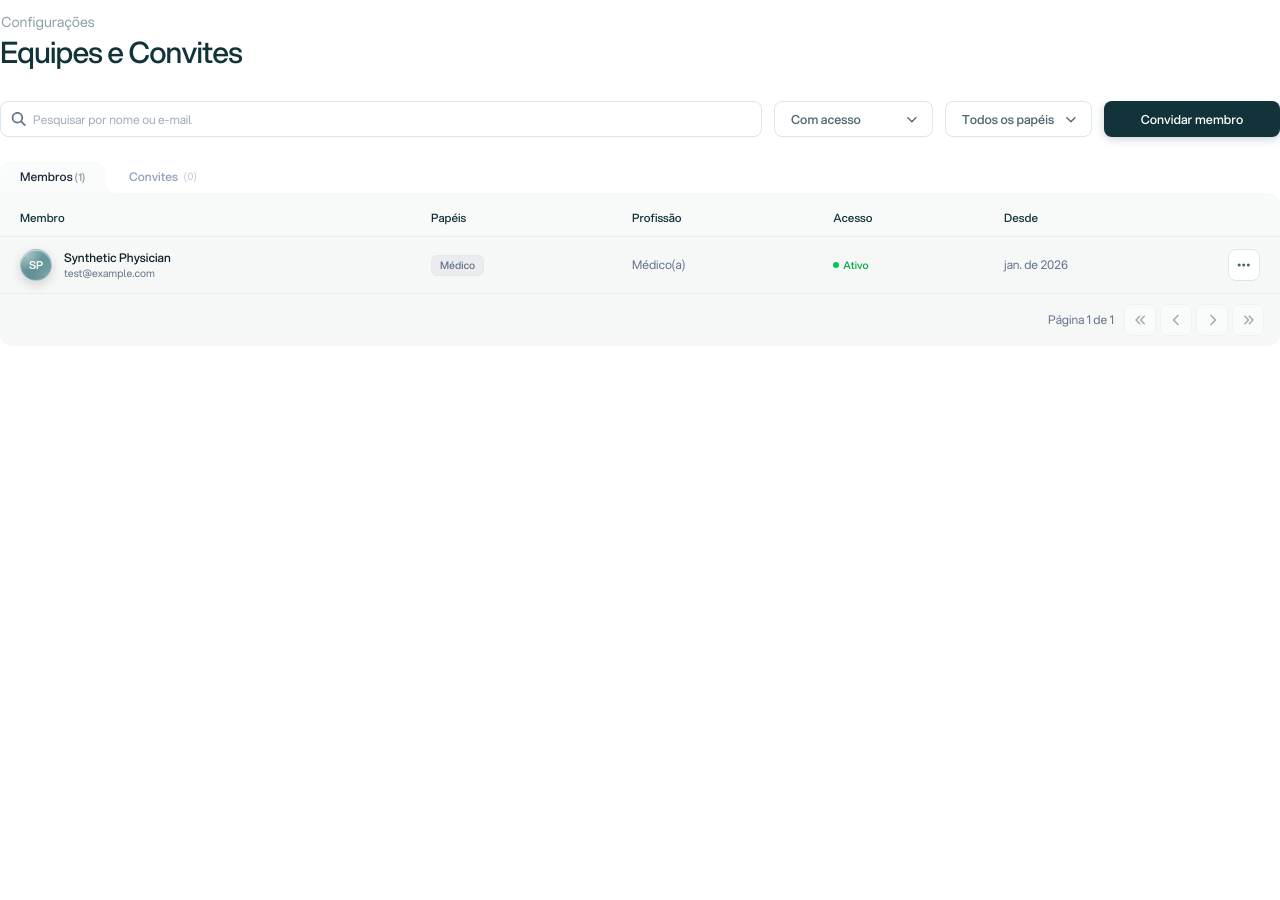
Scenario: FE-12 administrative outcomes › does not claim delivery when the persisted invite reports SMTP failure
Click the button "Convidar membro": (1192, 119) [1104, 101, 1279, 137]
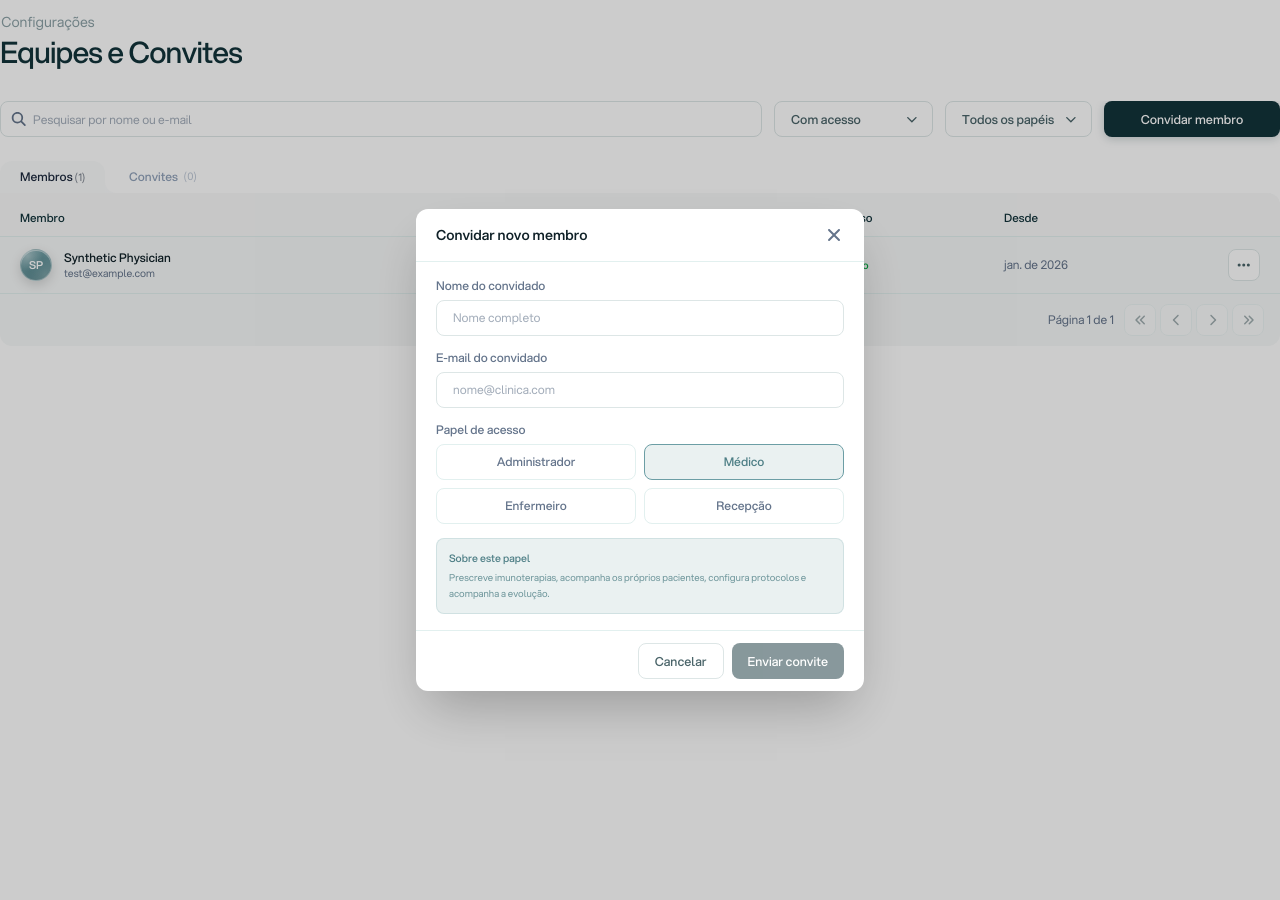
In the field with placeholder "Nome completo": (640, 318) [436, 300, 844, 336], type "Synthetic Physician"
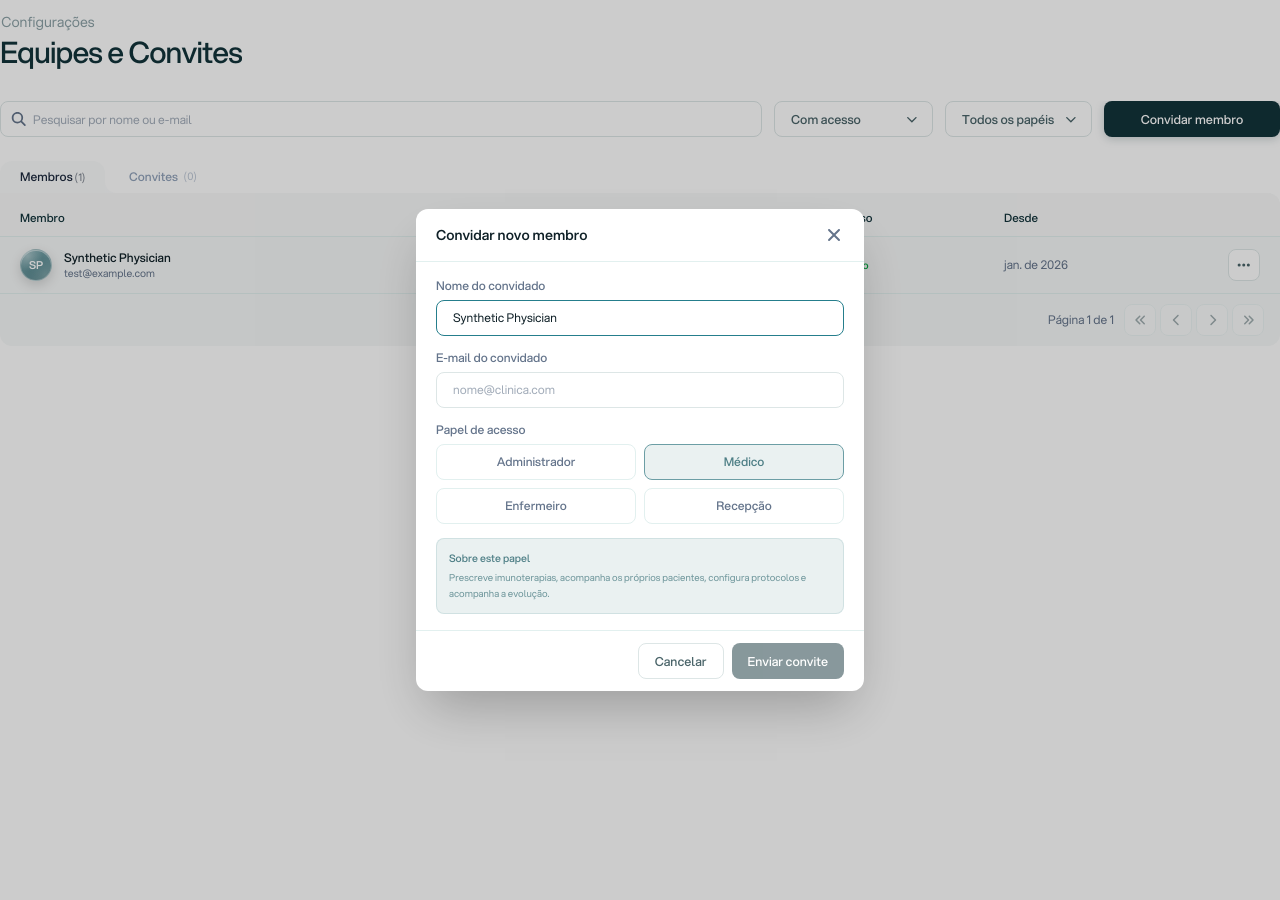
In the field with placeholder "nome@clinica.com": (640, 390) [436, 372, 844, 408], type "test@example.com"
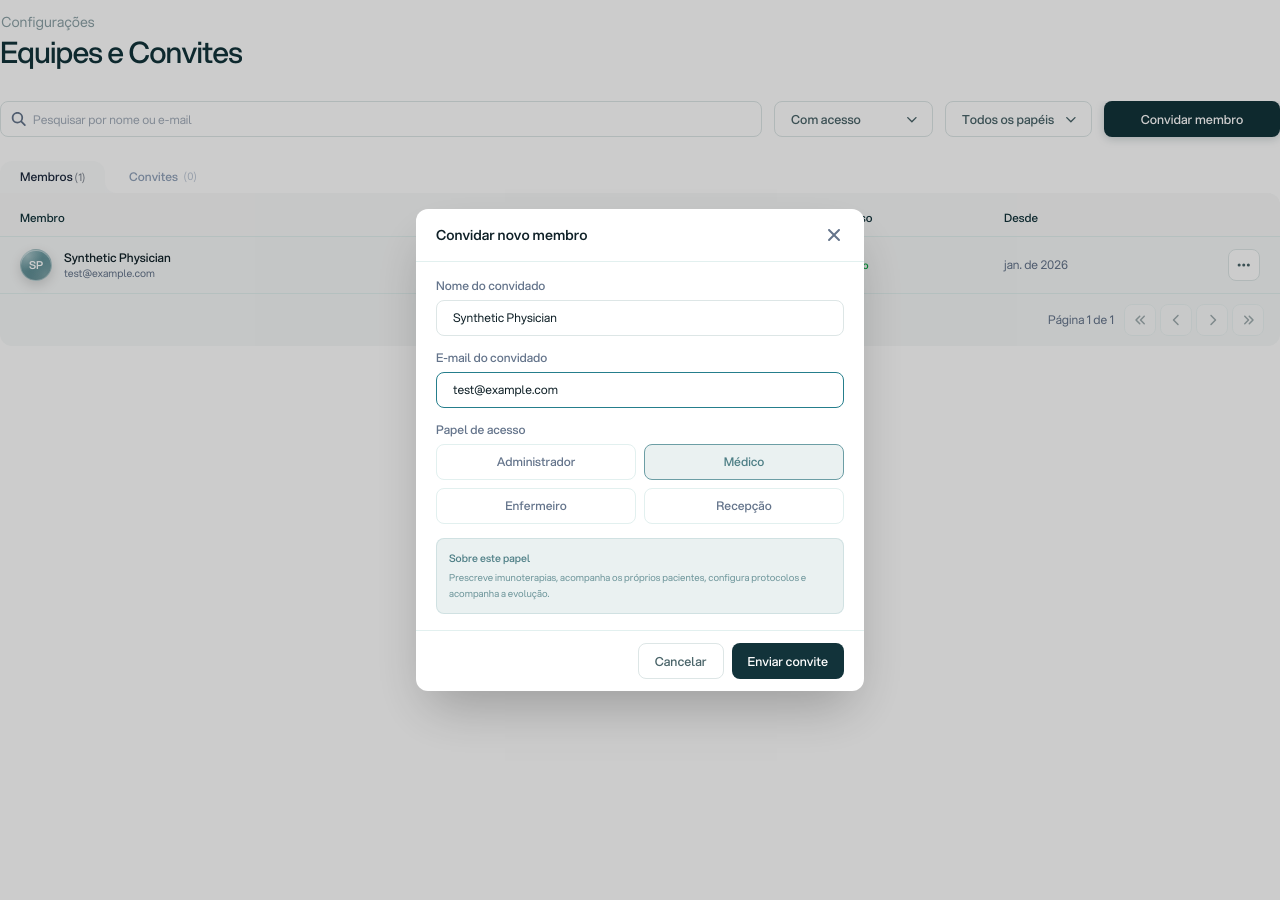
Click the button "Enviar convite": (788, 661) [732, 643, 844, 679]
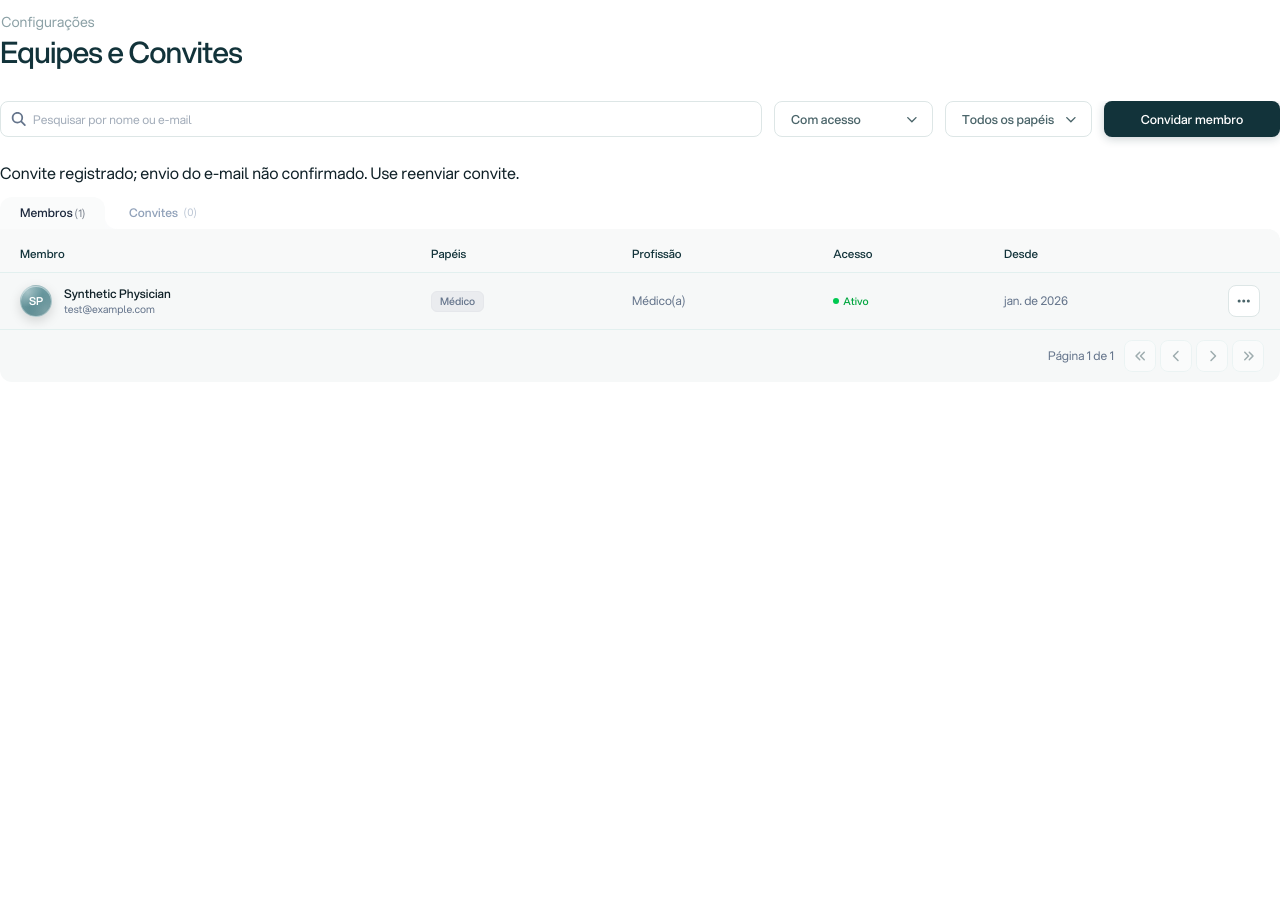
Expected: the message shows "envio do e-mail não confirmado", [0, 161, 519, 184]
